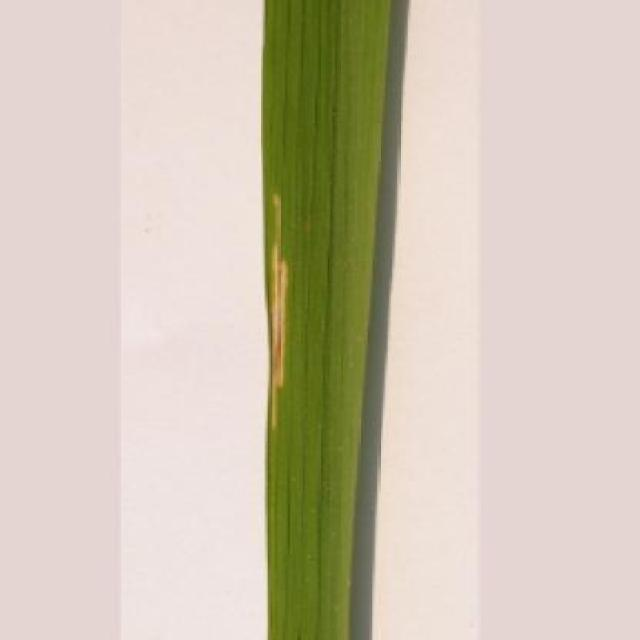Brown_Spot: (257, 0, 392, 640)
